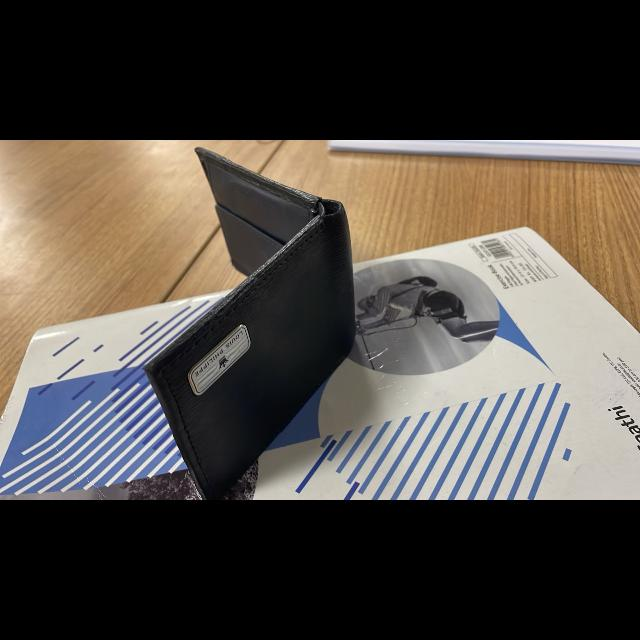wallet: (137, 145, 455, 500)
